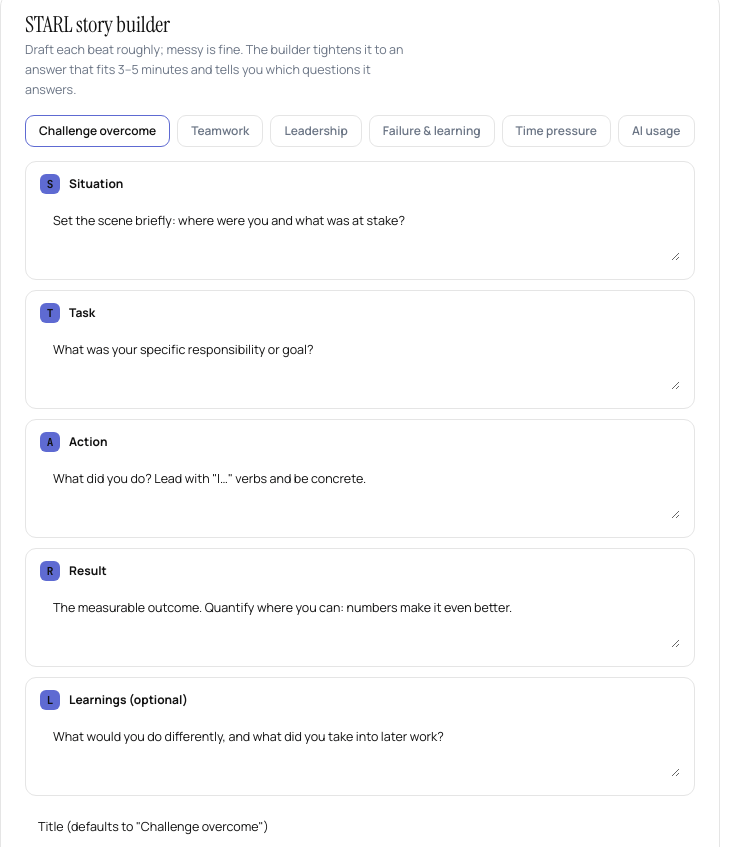
it: StarTab › unlocks once the situation and action are sketched
Type "Group project, teammate broke the build repeatedly." into the text box with placeholder "Set the scene".
click(360, 231); type("Group project, teammate broke the build repeatedly.")  # box [40,201,680,261]
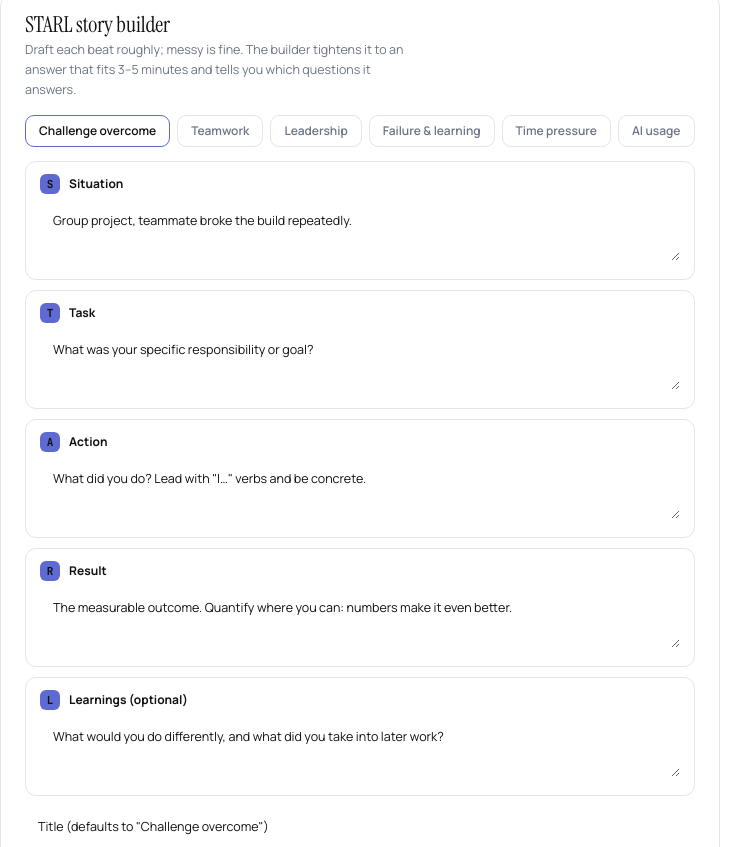
Type "Proposed a PR review and CI gate, paired on the first two." into the text box with placeholder "What did you do? Lead with \"I…\" verbs and be concrete.".
click(360, 489); type("Proposed a PR review and CI gate, paired on the first two.")  # box [40,459,680,519]
(page scrolled)
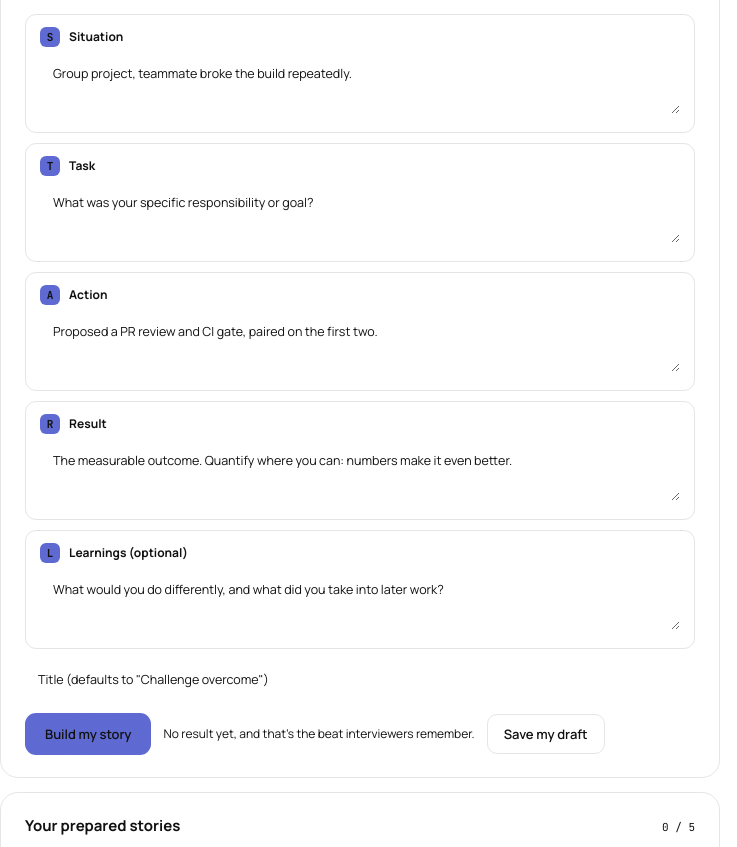
Expected: the button "Build my story" is enabled, [25,713,152,755]
